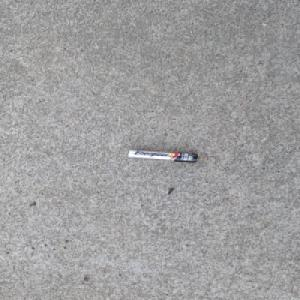Battery: (125, 149, 200, 164)
